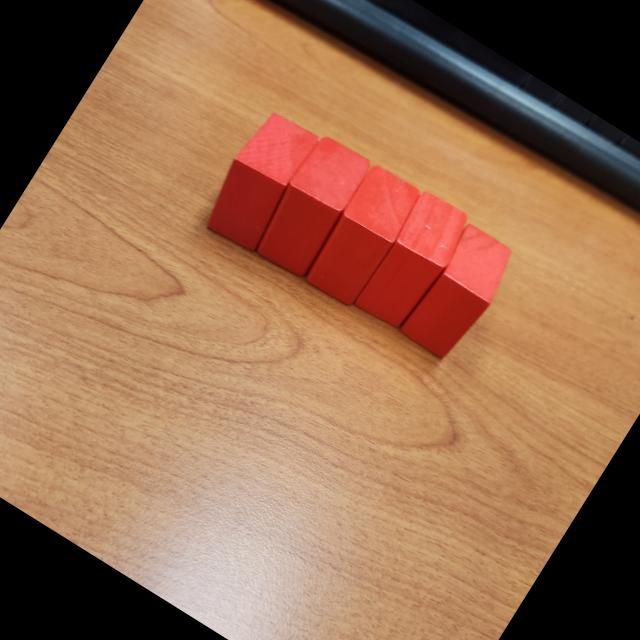red: (194, 104, 324, 255), (247, 130, 373, 282), (299, 160, 425, 312), (350, 186, 476, 338), (396, 219, 522, 366)
